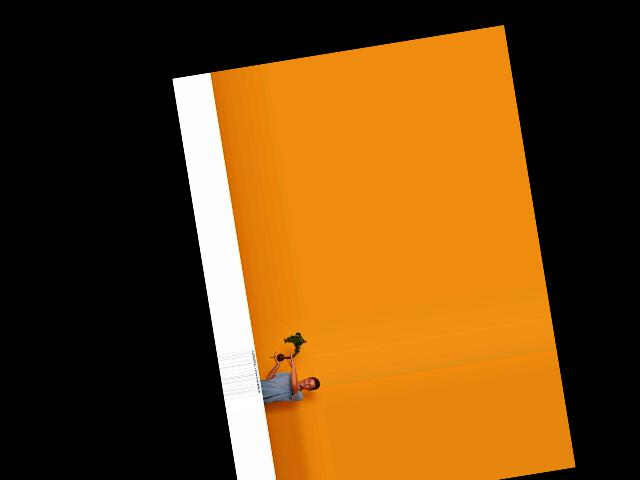beet: (266, 330, 308, 362)
